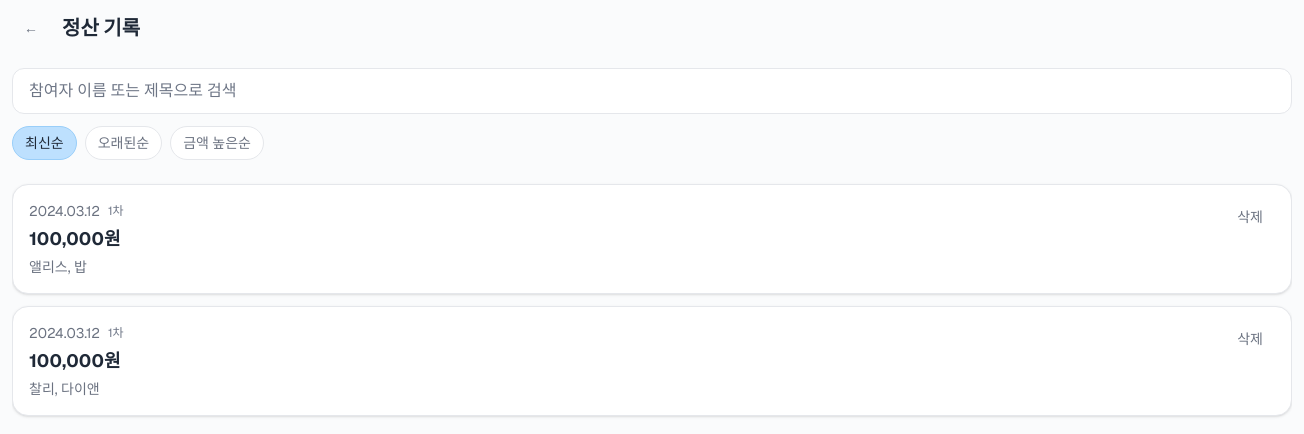
Test: HistoryPage - 검색 › 참여자 이름으로 검색 필터링
In the field named "정산 기록 검색": (652, 91) [12,68,1292,114], type "앨리스"
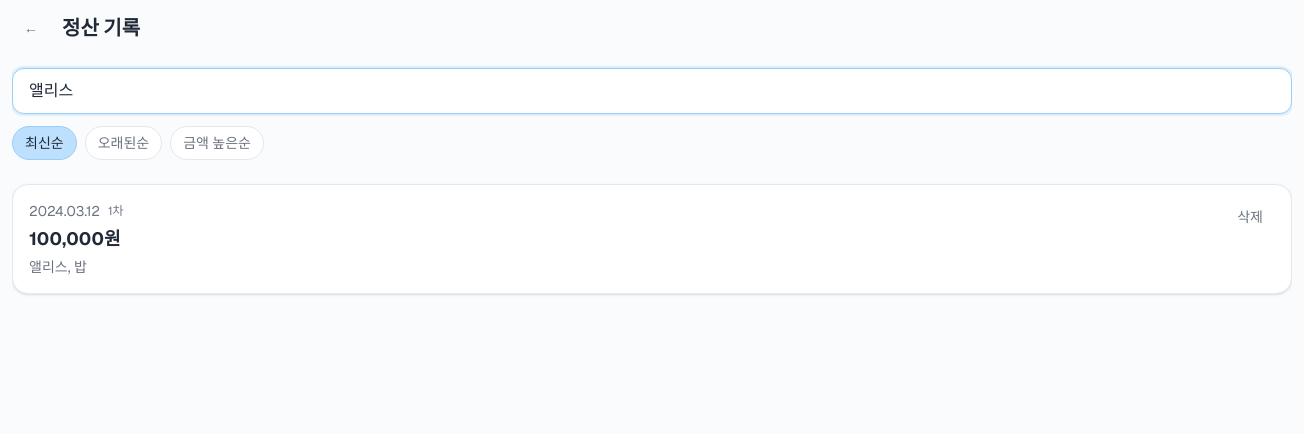
Check: the text "앨리스, 밥" is shown, box [29,258,87,276]
Check: the number of buttons named "정산 기록" is 1, box [12,184,1292,294]
